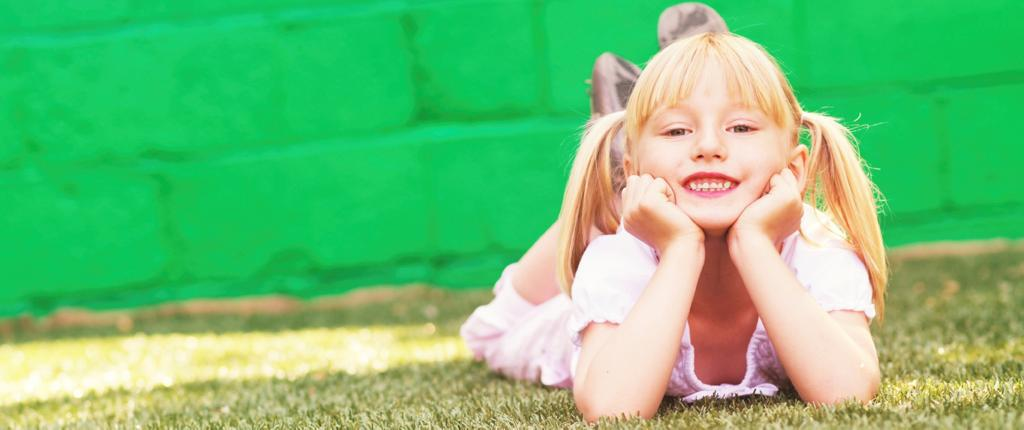face: (651, 57, 775, 223)
